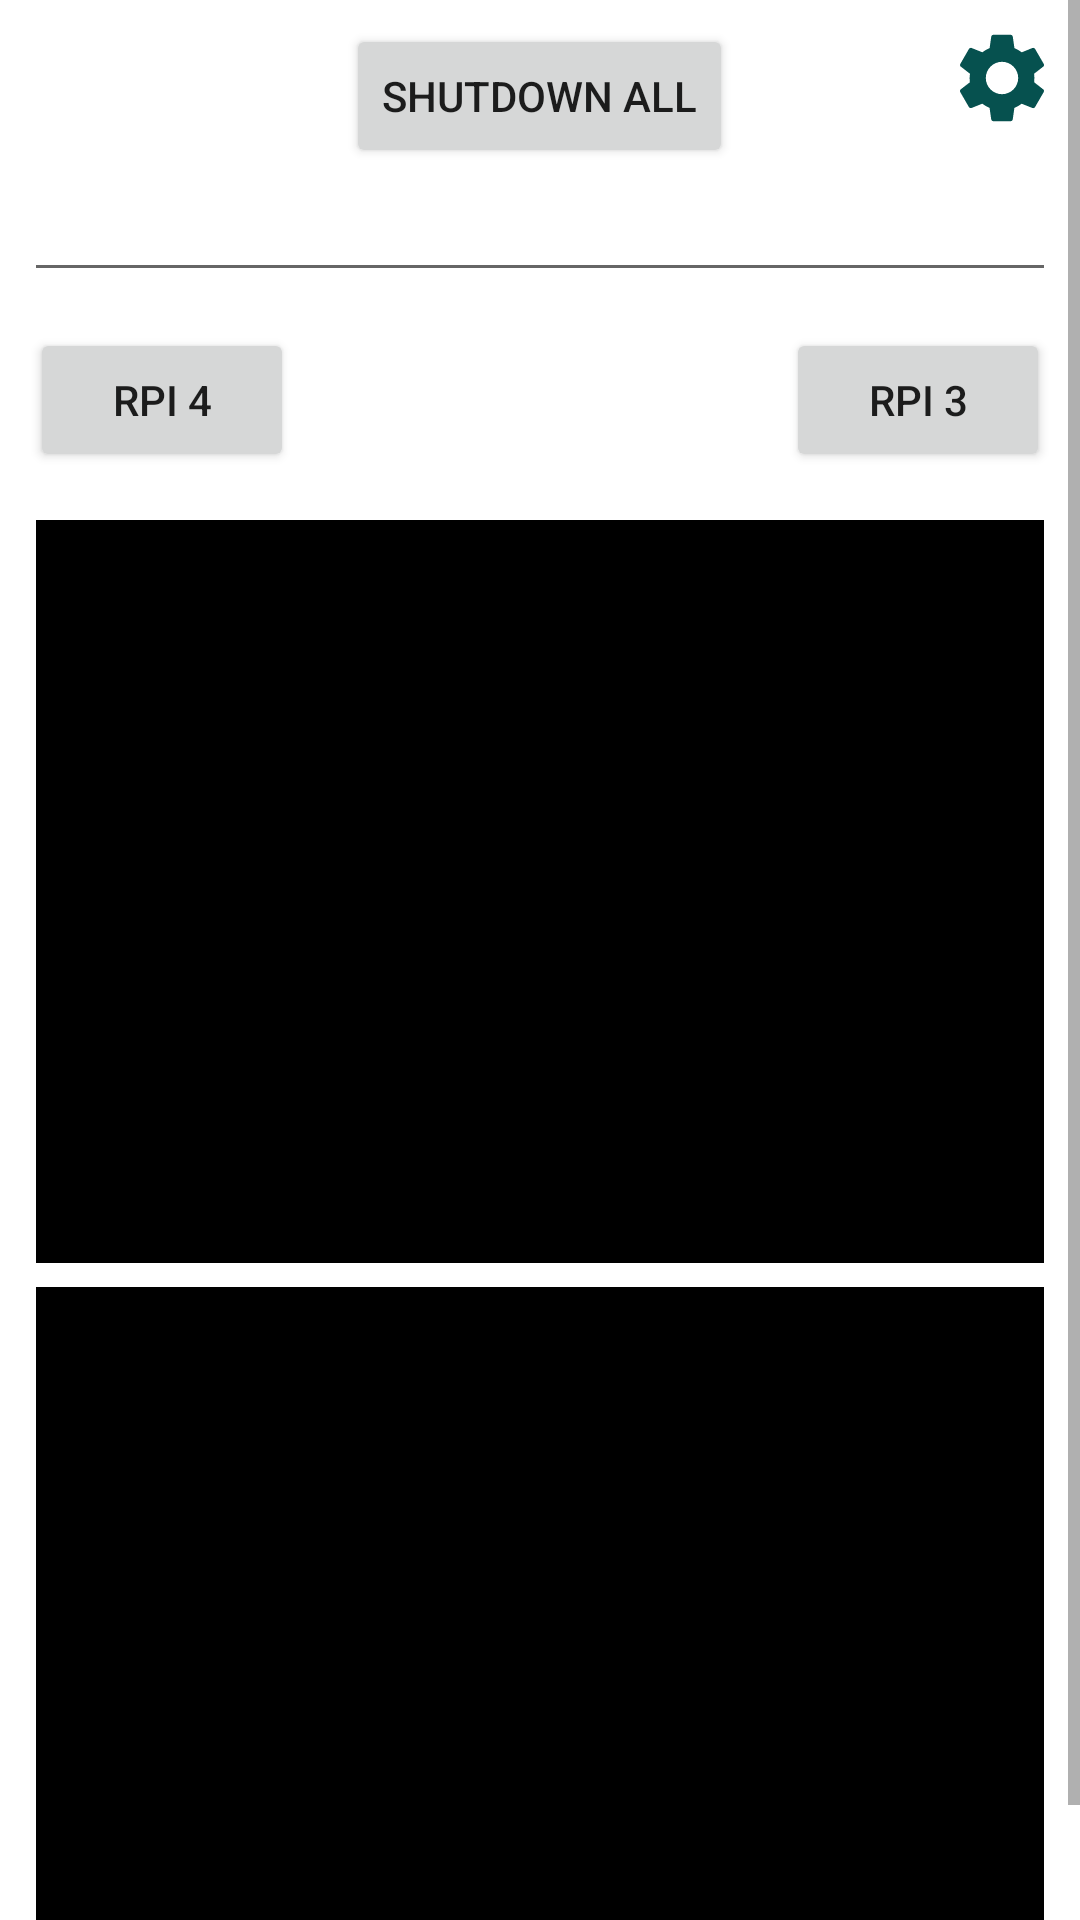

Screen size 1080×1920. Icon name, then its box in pixels as box(x1, y1, x2, y2):
settings: box(960, 34, 1044, 122)
